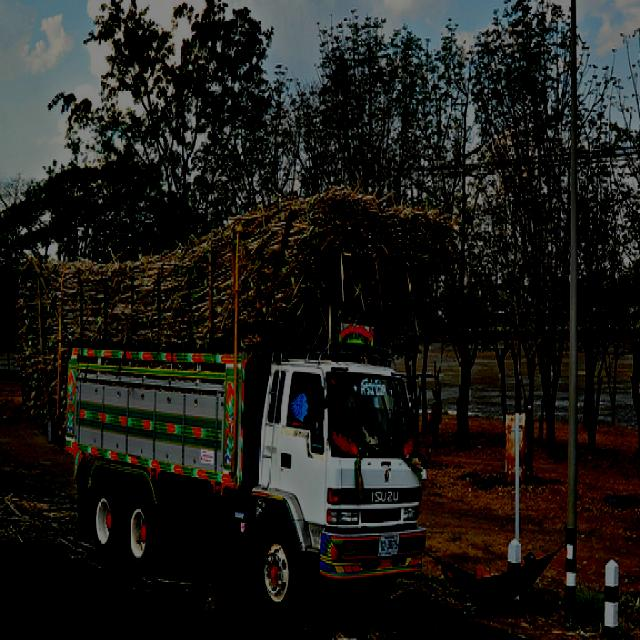Vehicle: (61, 322, 427, 622)
